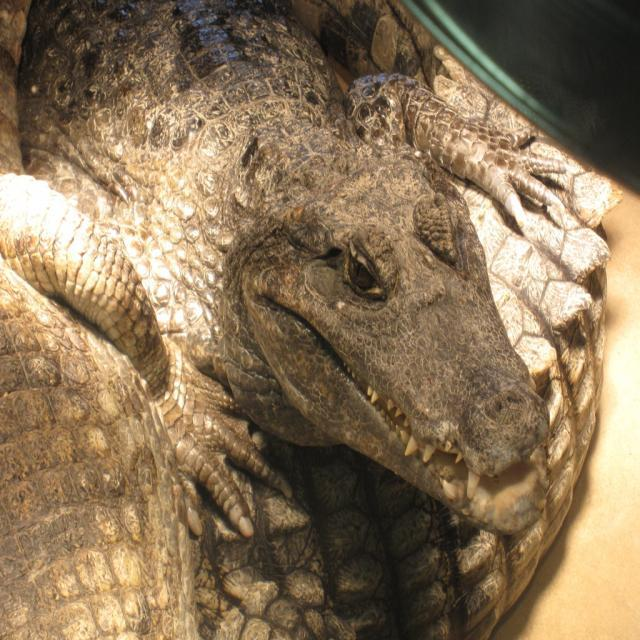crocodile: (1, 0, 566, 639)
